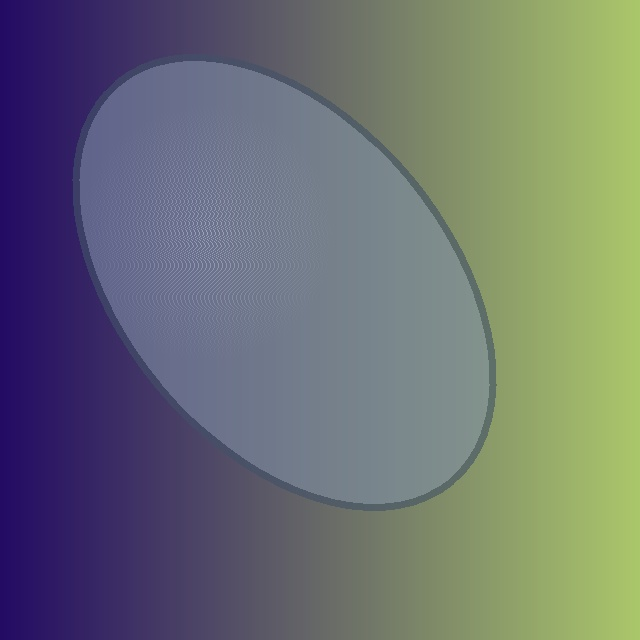lens: (77, 57, 491, 507)
